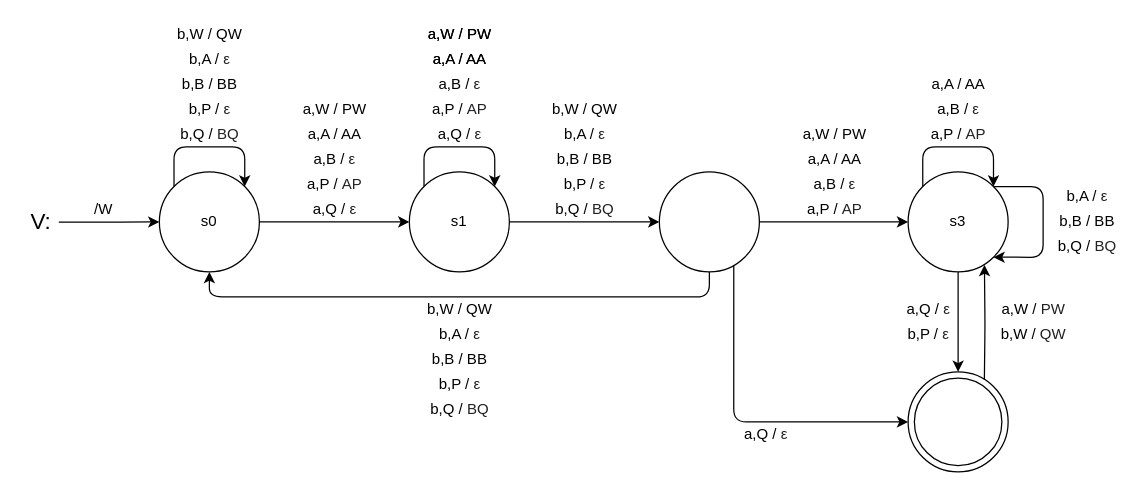
Image size: 1145x494. Some labels were removed from this diagram. The shapes that lost their labels are listed below. From the top down, each one's box as (x1, y1, x2, y2) in pixels, then its label:
(658, 171, 759, 272): s2
(913, 377, 1002, 466): fin
